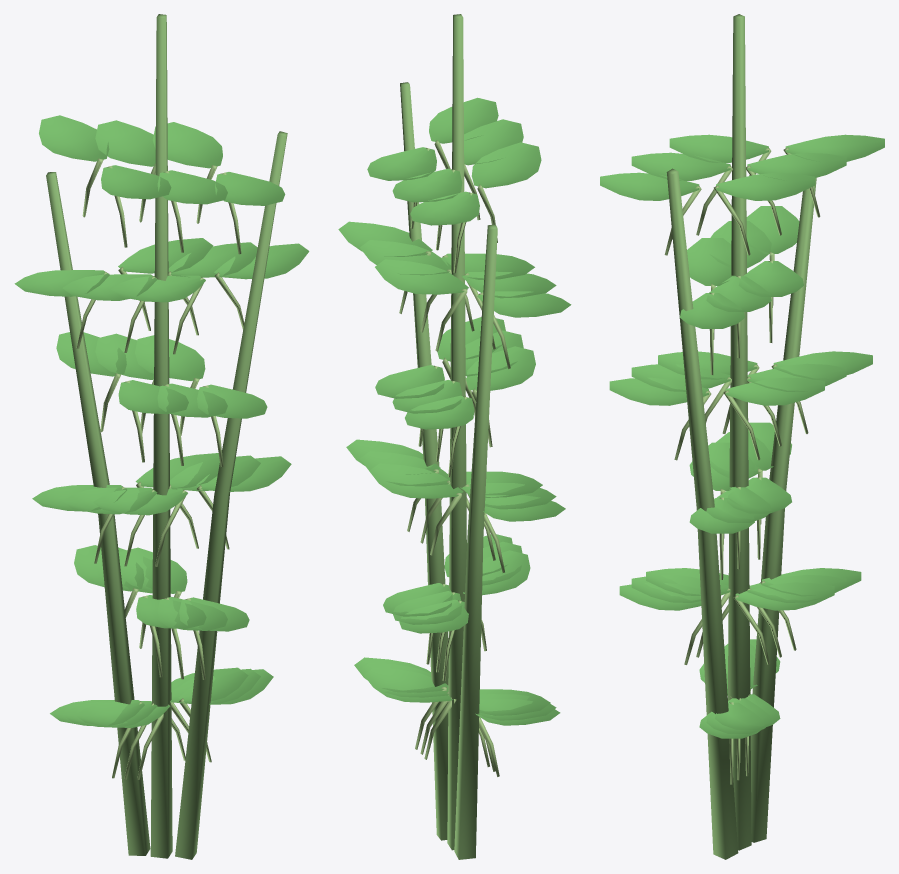
The model's file is shrub_stinging_nettle.glb.
3 renders of one model, left to right at view 1: azimuth 30°, elevation 25°; view 2: azimuth 150°, elevation 25°; view 3: azimuth 270°, elevation 25°, orthographic.
Visible parts, largest first — view 1: Flora_Stinging_Nettle; view 2: Flora_Stinging_Nettle; view 3: Flora_Stinging_Nettle.
Part boxes in pixels (box(x1,y1,x2,y2)): Flora_Stinging_Nettle: box(14, 14, 309, 859); Flora_Stinging_Nettle: box(338, 14, 571, 859); Flora_Stinging_Nettle: box(600, 14, 884, 859).
Bounding box in the file's own units: 0.35 × 1.1 × 0.3427.
